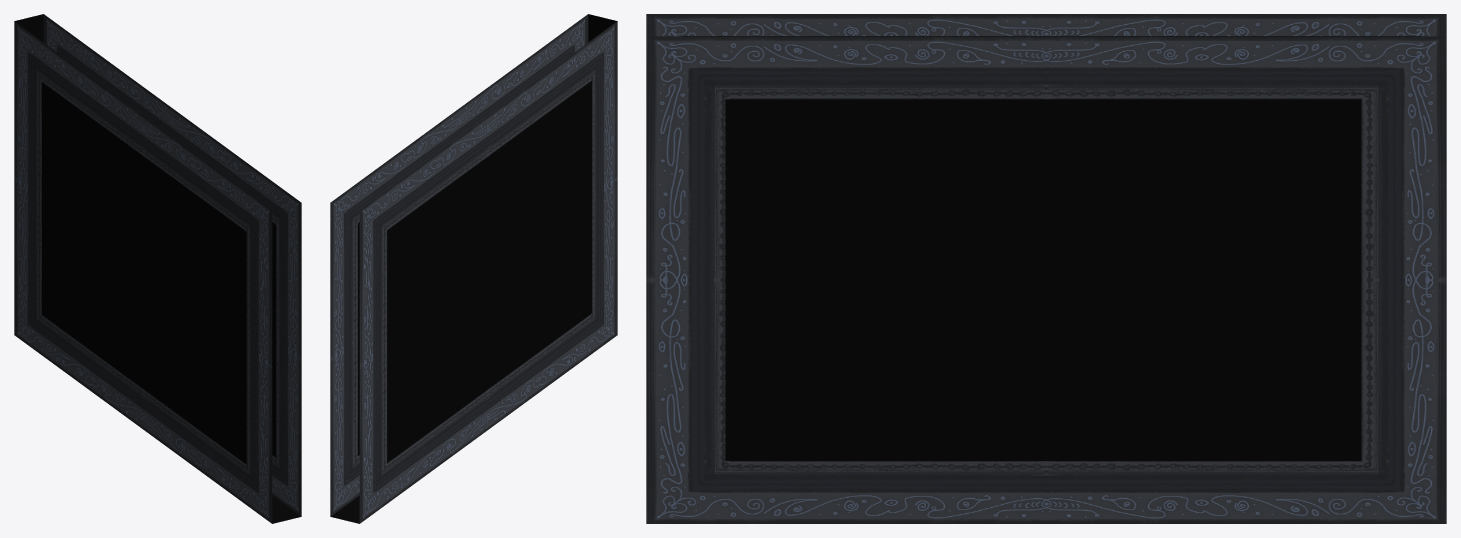
Rendered from AI_Goat_rahmen.glb.
3 renders of one model, left to right at view 1: azimuth 30°, elevation 25°; view 2: azimuth 150°, elevation 25°; view 3: azimuth 270°, elevation 25°, orthographic. The views are drawn at different scales.
Parts seen in each view (by area): view 1: 2D_Bilderrahmen_dark; view 2: 2D_Bilderrahmen_dark; view 3: 2D_Bilderrahmen_dark.
Part boxes in pixels (x1,y1,x2,y2): 2D_Bilderrahmen_dark: (14, 14, 301, 523); 2D_Bilderrahmen_dark: (330, 14, 617, 523); 2D_Bilderrahmen_dark: (646, 14, 1446, 523).
Size of the model in its own units: 0.4417 by 4.53 by 6.74.
Materials: 2 (1 with a texture image).
